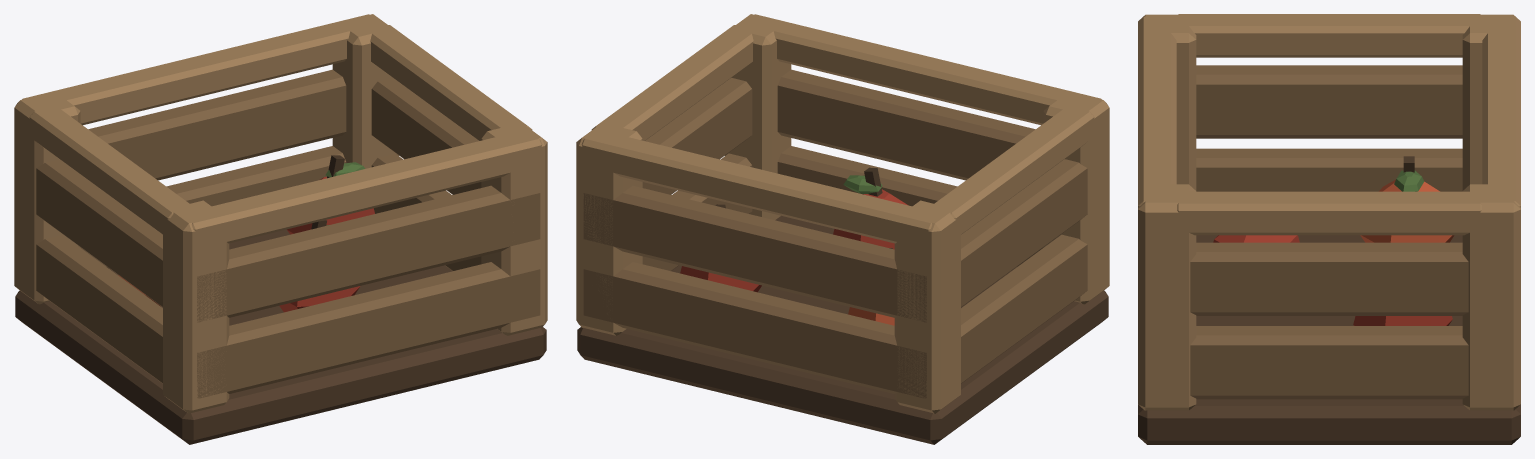
Rendered from apple_low.glb.
3 views of the same model, side by side, from view 1: azimuth 30°, elevation 25°; view 2: azimuth 150°, elevation 25°; view 3: azimuth 270°, elevation 25° (orthographic). The views are drawn at different scales.
Parts seen in each view (by area): view 1: apple_low; view 2: apple_low; view 3: apple_low.
Boxes of the visible parts, x1=… form: apple_low: x1=14, y1=14, x2=547, y2=444; apple_low: x1=576, y1=14, x2=1109, y2=444; apple_low: x1=1138, y1=14, x2=1520, y2=444.
Bounding box in the file's own units: 0.75 × 0.4375 × 0.625.
